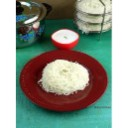idiyappam: (42, 58, 92, 92)
